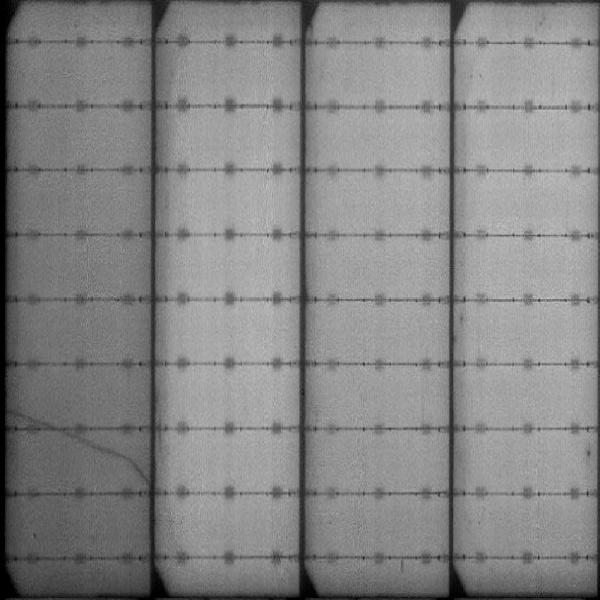scratch: (75, 431, 147, 480), (8, 409, 70, 436)
